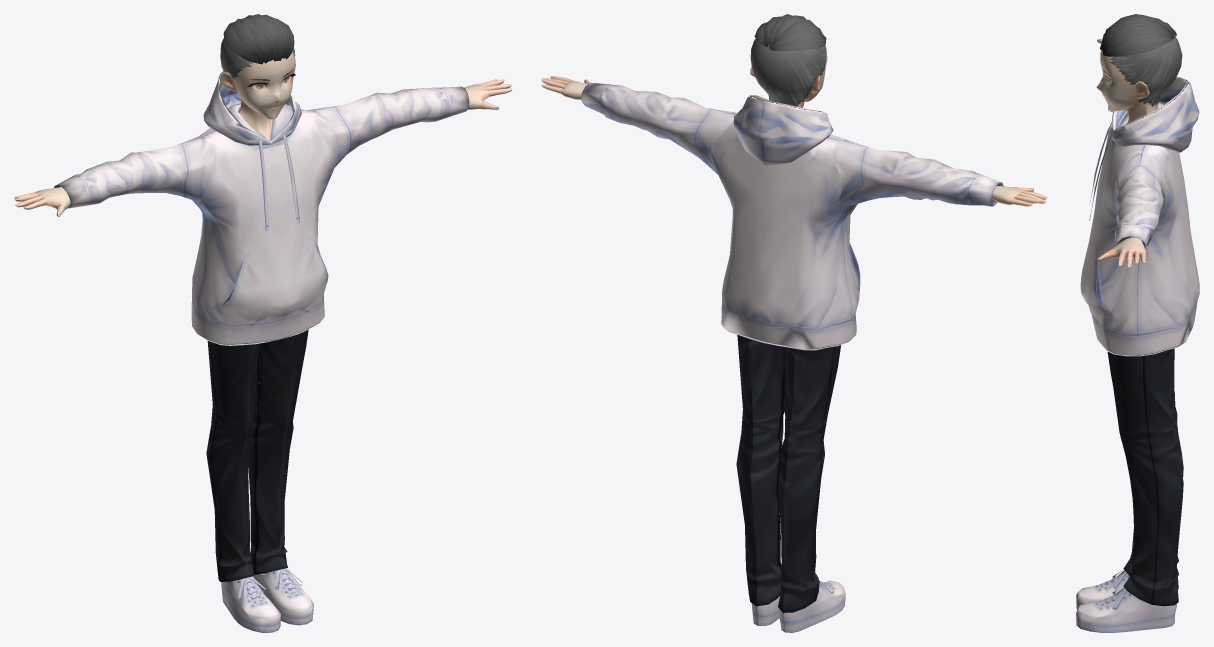
File: Yamaguchi.fbx
3 renders of one model, left to right at view 1: azimuth 30°, elevation 25°; view 2: azimuth 150°, elevation 25°; view 3: azimuth 270°, elevation 25°, orthographic.
Parts seen in each view (by area): view 1: node_id105; view 2: node_id105; view 3: node_id105.
Boxes of the visible parts, x1=… form: node_id105: x1=14, y1=14, x2=512, y2=632; node_id105: x1=541, y1=14, x2=1047, y2=632; node_id105: x1=1076, y1=14, x2=1199, y2=632.
Size of the model in its own units: 6.05 by 6.85 by 1.28.
